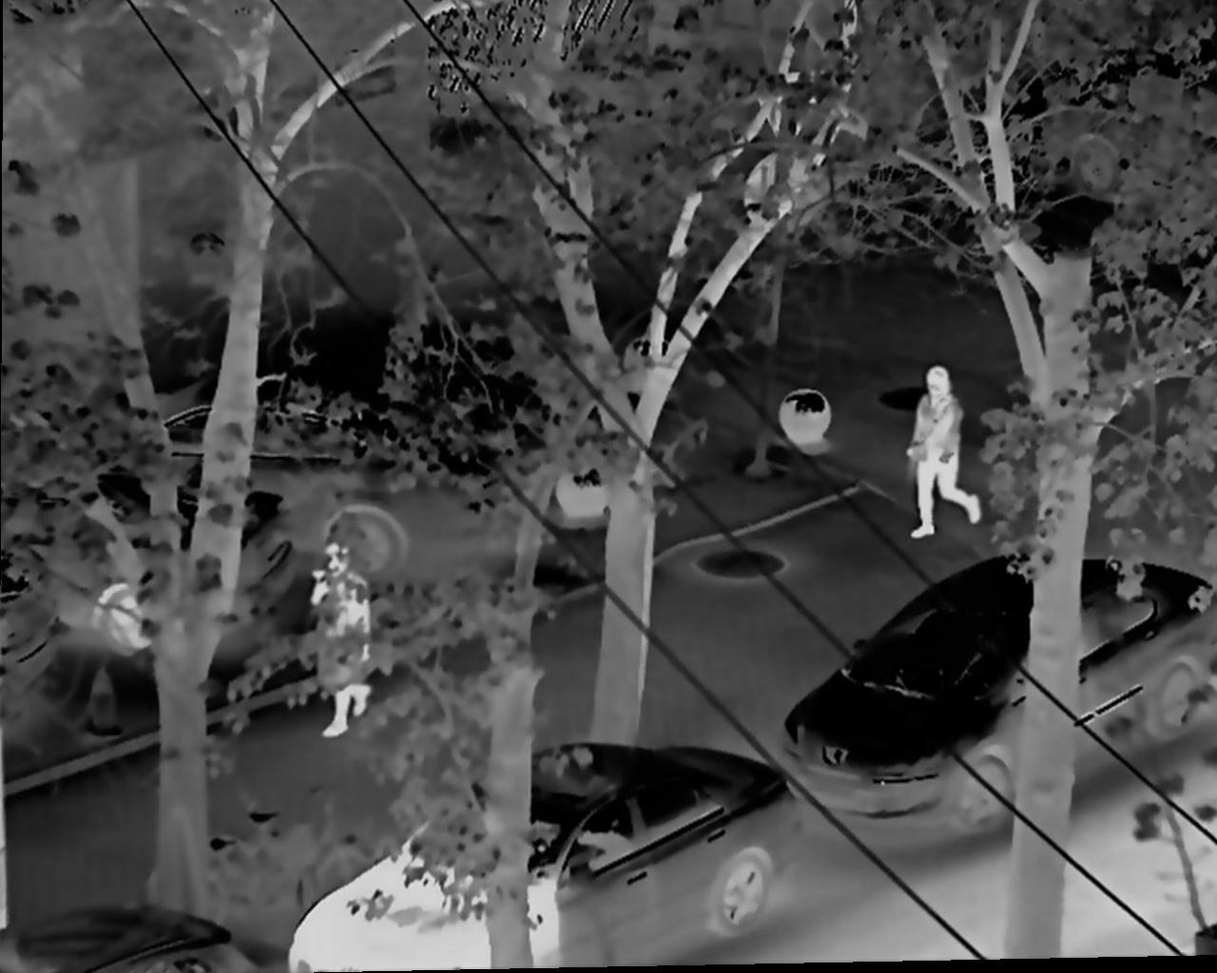person: (309, 543, 371, 739), (909, 368, 979, 541)
